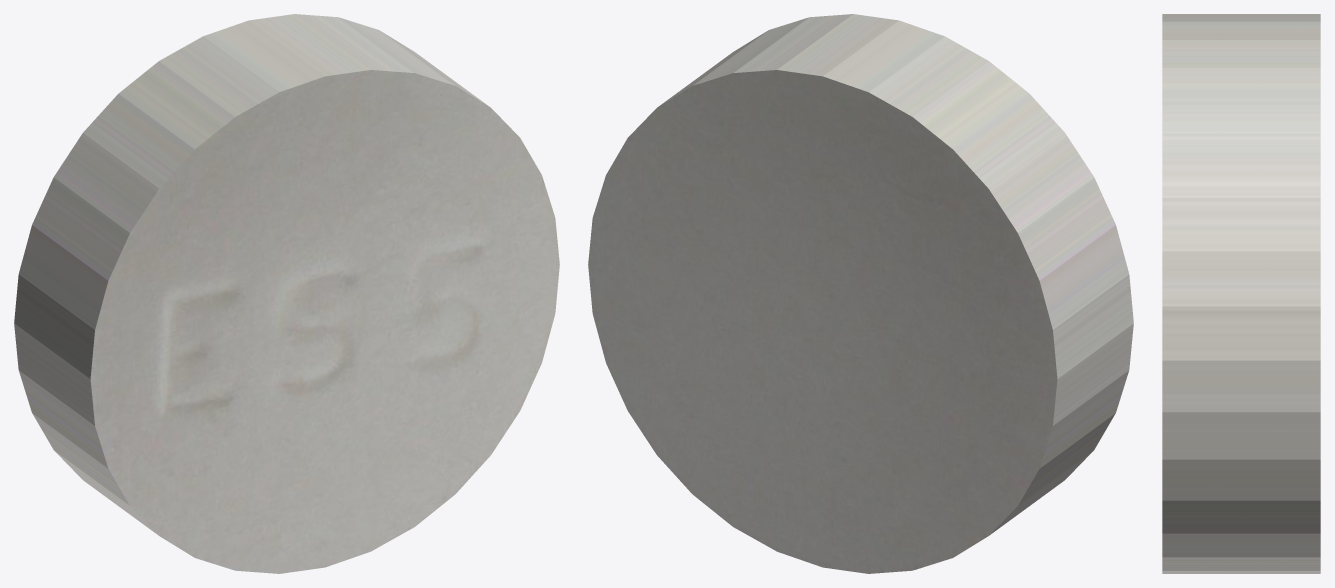
Rendered from 20161031GOPHDRGPT21960.fbx.
3 views of the same model, side by side, from view 1: azimuth 30°, elevation 25°; view 2: azimuth 150°, elevation 25°; view 3: azimuth 270°, elevation 25° (orthographic). The views are drawn at different scales.
Parts seen in each view (by area): view 1: Cylinder; view 2: Cylinder; view 3: Cylinder.
Boxes of the visible parts, x1,y1,x2,y2 form: Cylinder: (14,14,559,573); Cylinder: (588,14,1133,573); Cylinder: (1162,14,1320,573).
Bounding box in the file's own units: 1.02 × 1.02 × 0.2879.
Materials: 1 (1 with a texture image).
